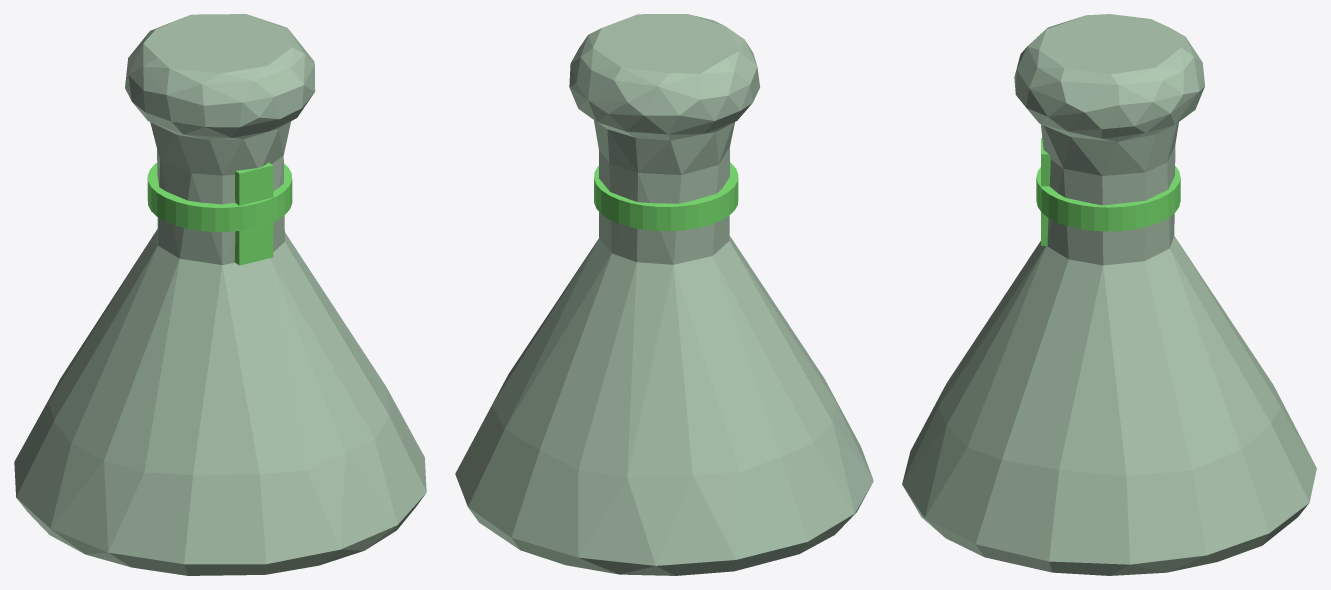
The model's file is Flask.fbx.
The picture shows the model from 3 angles, left to right: view 1: azimuth 30°, elevation 25°; view 2: azimuth 150°, elevation 25°; view 3: azimuth 270°, elevation 25°; orthographic projection.
Parts seen in each view (by area): view 1: Circle, Circle.001, Cube; view 2: Circle, Circle.001; view 3: Circle, Circle.001, Cube.
Boxes of the visible parts, bbox=[...] form: Circle: bbox=[14, 14, 426, 575]; Circle.001: bbox=[147, 162, 292, 231]; Cube: bbox=[234, 162, 273, 265]; Circle: bbox=[455, 14, 873, 575]; Circle.001: bbox=[594, 162, 738, 231]; Circle: bbox=[902, 14, 1316, 575]; Circle.001: bbox=[1036, 166, 1180, 231]; Cube: bbox=[1041, 138, 1050, 245].
Bounding box in the file's own units: 184 × 220 × 184.
